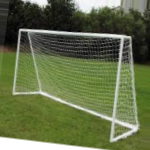goals: (12, 27, 141, 142)
